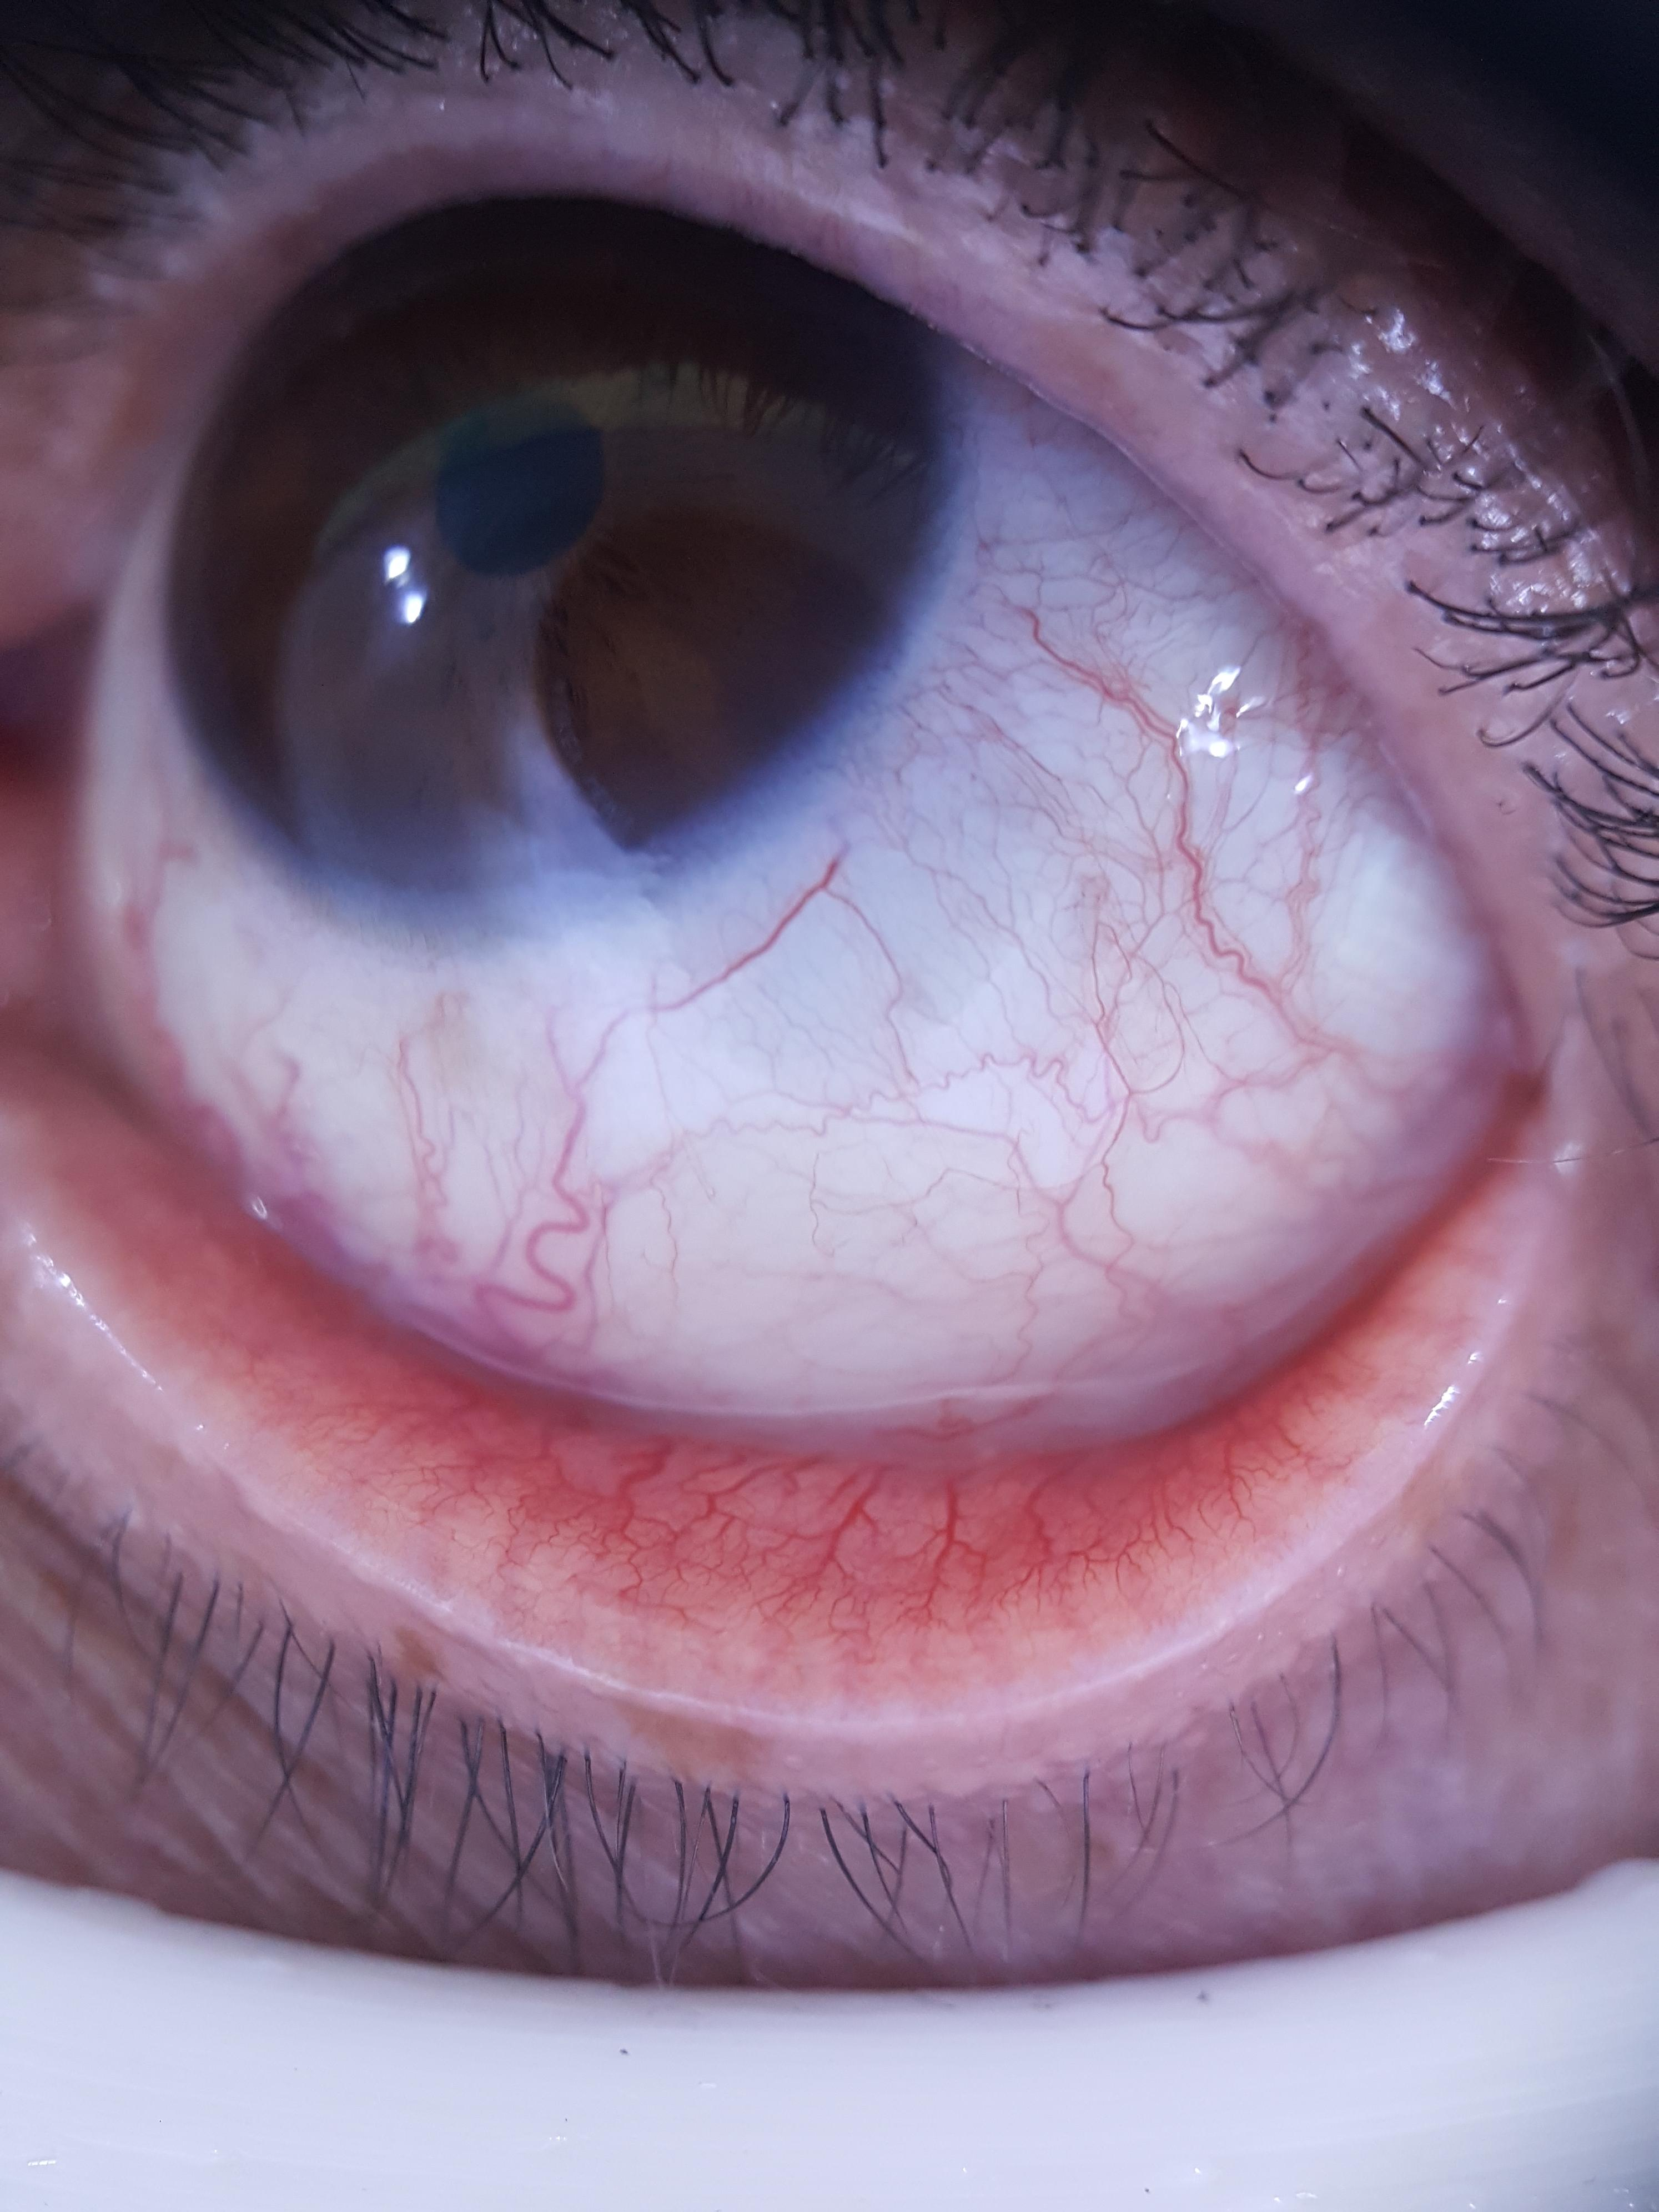forniceal: (322, 1116, 1521, 1494)
forniceal_palpebral: (200, 1160, 1476, 1616)
palpebral: (221, 1160, 1499, 1594)
